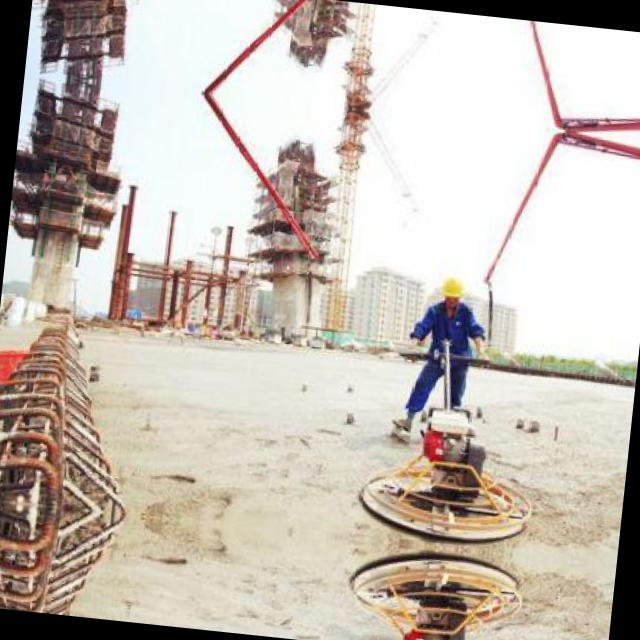helmet: (434, 272, 469, 309)
